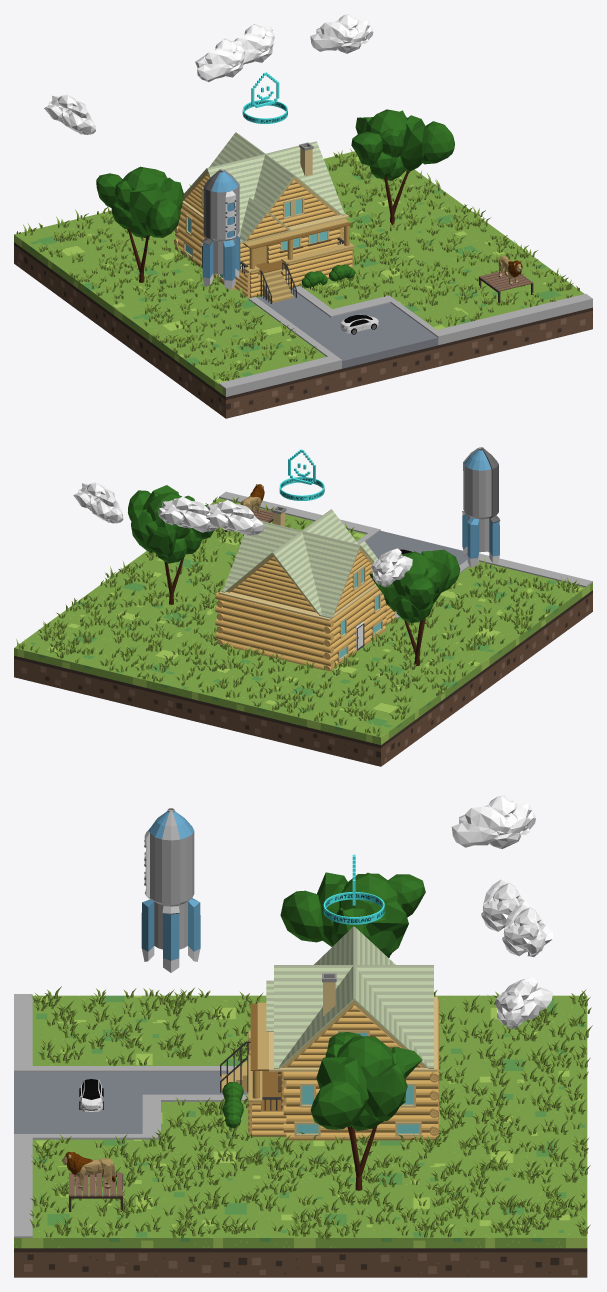
The picture shows the model from 3 angles, top to bottom: view 1: azimuth 30°, elevation 25°; view 2: azimuth 150°, elevation 25°; view 3: azimuth 270°, elevation 25°; orthographic projection. The views are drawn at different scales.
Visible parts, largest first — view 1: Cube.006, Circle.012_Grass_0.192, Cube.1516, Cube.007, tree, tree.001, OBJRANDOM_ROCKETSHIP, TYPE_PREMIUM, Cube.009, VEHICLES_TESLA; view 2: Cube.006, Cube.1516, Circle.012_Grass_0.192, Cube.007, OBJRANDOM_ROCKETSHIP, tree.001, tree, TYPE_PREMIUM; view 3: Cube.006, Circle.012_Grass_0.192, Cube.1516, tree, Cube.007, OBJRANDOM_ROCKETSHIP, tree.001, Cube.009, TYPE_PREMIUM, ANIMAL_LEON, VEHICLES_TESLA.
Part boxes in pixels (box(x1,y1,x2,y2)): Cube.006: box(14, 151, 592, 418); Circle.012_Grass_0.192: box(16, 148, 579, 381); Cube.1516: box(174, 132, 354, 303); Cube.007: box(44, 14, 373, 134); tree: box(351, 109, 454, 225); tree.001: box(96, 166, 183, 282); OBJRANDOM_ROCKETSHIP: box(202, 169, 240, 289); TYPE_PREMIUM: box(242, 72, 287, 123); Cube.009: box(479, 270, 533, 302); VEHICLES_TESLA: box(340, 314, 378, 334); Cube.006: box(14, 491, 592, 766); Cube.1516: box(215, 506, 395, 671); Circle.012_Grass_0.192: box(16, 497, 579, 736); Cube.007: box(73, 482, 412, 587); OBJRANDOM_ROCKETSHIP: box(462, 447, 500, 567); tree.001: box(369, 549, 460, 665); tree: box(128, 485, 213, 604); TYPE_PREMIUM: box(279, 449, 324, 500); Cube.006: box(14, 994, 587, 1277); Circle.012_Grass_0.192: box(29, 986, 592, 1239); Cube.1516: box(220, 926, 439, 1140); tree: box(310, 1032, 422, 1190); Cube.007: box(451, 795, 552, 1029); OBJRANDOM_ROCKETSHIP: box(141, 808, 200, 972); tree.001: box(280, 872, 425, 957); Cube.009: box(69, 1172, 122, 1211); TYPE_PREMIUM: box(323, 854, 384, 924); ANIMAL_LEON: box(61, 1151, 115, 1188); VEHICLES_TESLA: box(79, 1079, 103, 1111).
Size of the model in its own units: 4071 by 2401 by 4040.
Materials: 40 (5 with a texture image).
